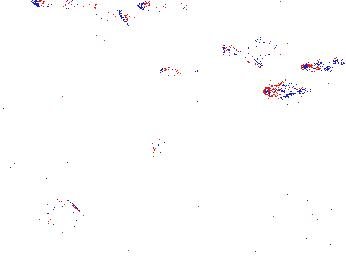glassfish: (66, 132, 182, 187)
red belly glassfish: (159, 61, 203, 79), (259, 84, 299, 100), (299, 59, 334, 74)
redtail glassfish: (65, 1, 136, 28), (218, 35, 284, 59), (137, 1, 191, 16)
